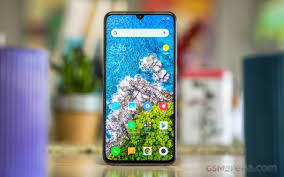mi: (100, 9, 176, 168)
